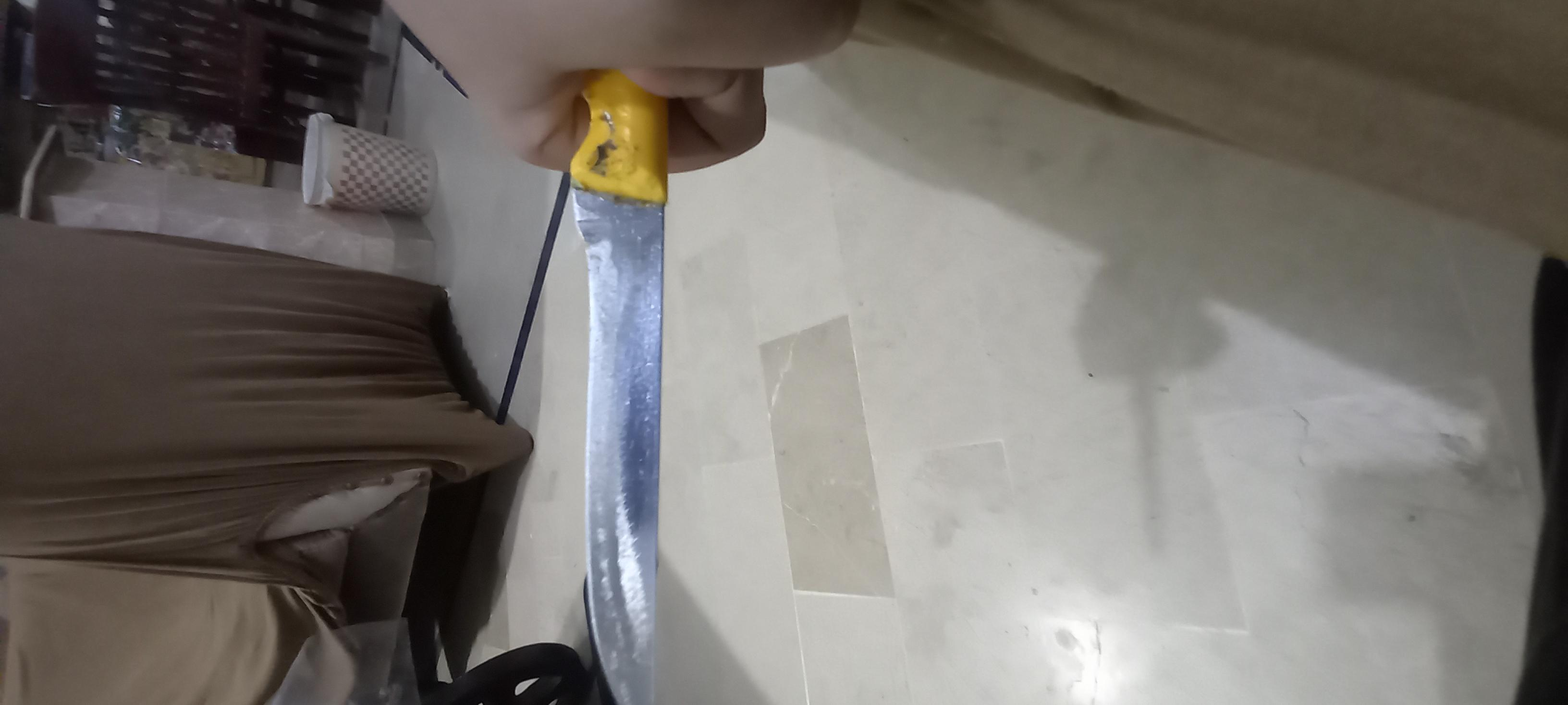knives: (1, 242, 1471, 326)
